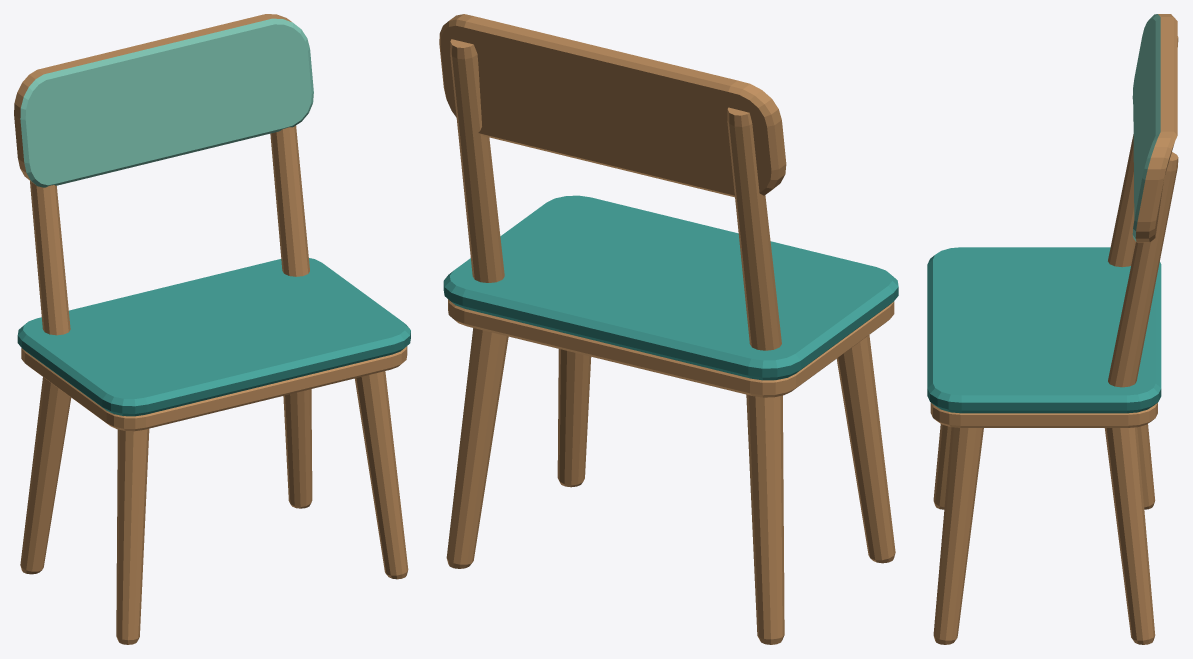
Rendered from chair.glb.
The picture shows the model from 3 angles, left to right: view 1: azimuth 30°, elevation 25°; view 2: azimuth 150°, elevation 25°; view 3: azimuth 270°, elevation 25°; orthographic projection. The views are drawn at different scales.
Parts seen in each view (by area): view 1: Chair; view 2: Chair; view 3: Chair.
Part boxes in pixels (<box>): Chair: <box>14,14,410,644</box>; Chair: <box>439,14,898,644</box>; Chair: <box>927,14,1178,644</box>.
Size of the model in its own units: 0.328 by 0.499 by 0.2276.
